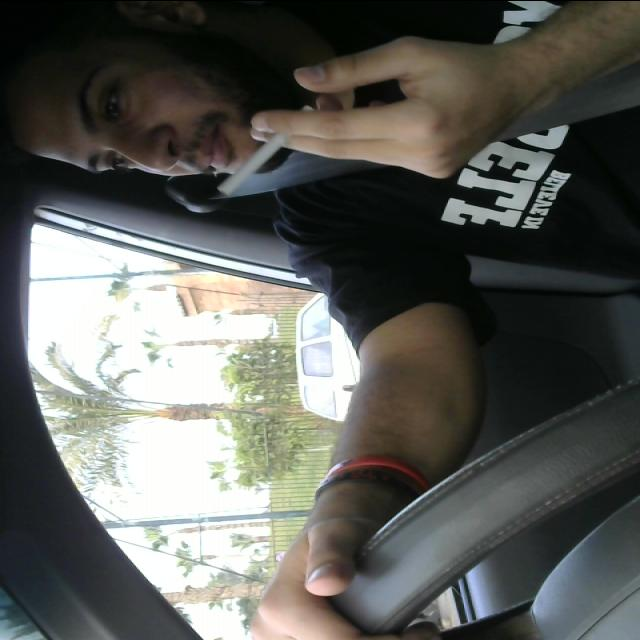smoking: (215, 90, 329, 202)
